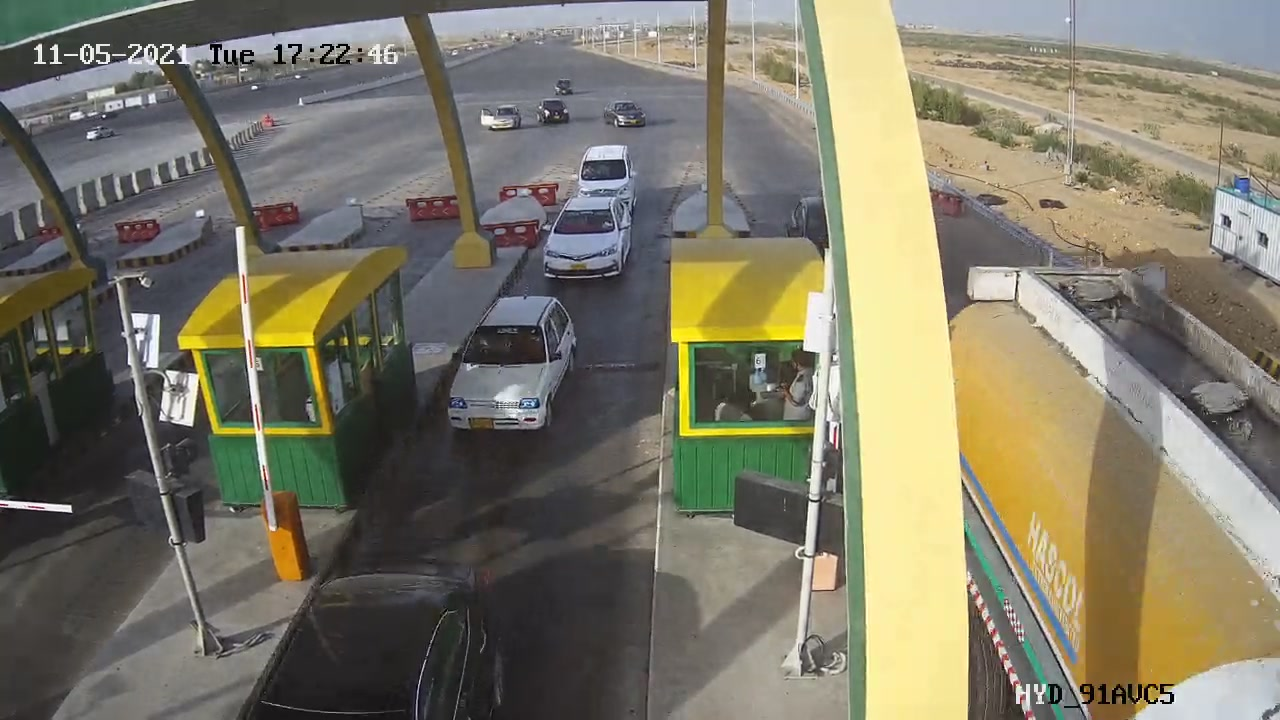F1: (426, 282, 595, 444), (527, 187, 651, 295)
